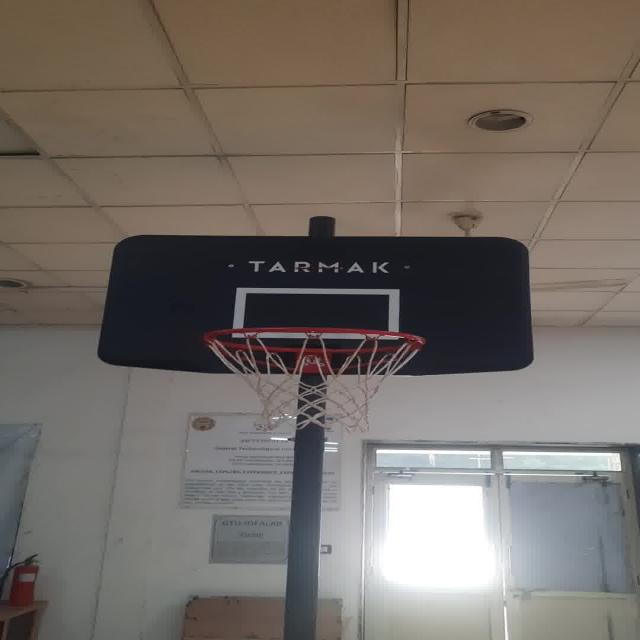objects: (192, 318, 451, 439), (242, 289, 402, 340)
